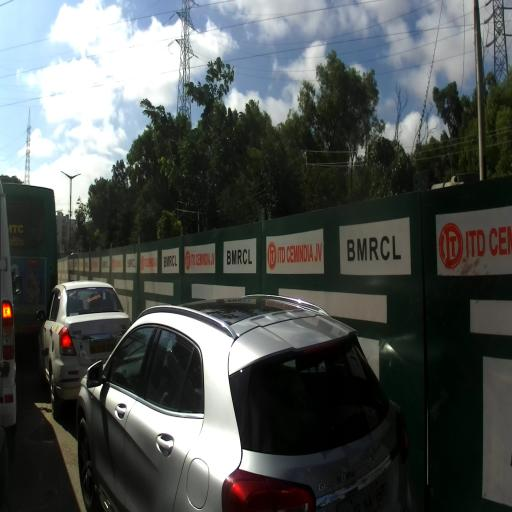street_light_0: (61, 170, 72, 180), (70, 173, 81, 180), (55, 208, 63, 212)
